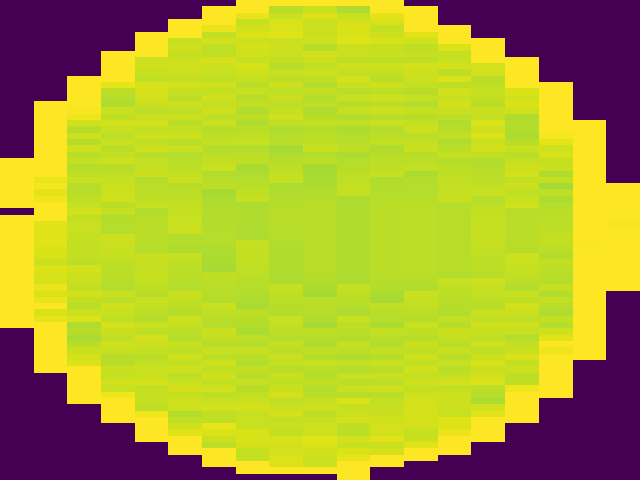sphere: (1, 2, 640, 480)
